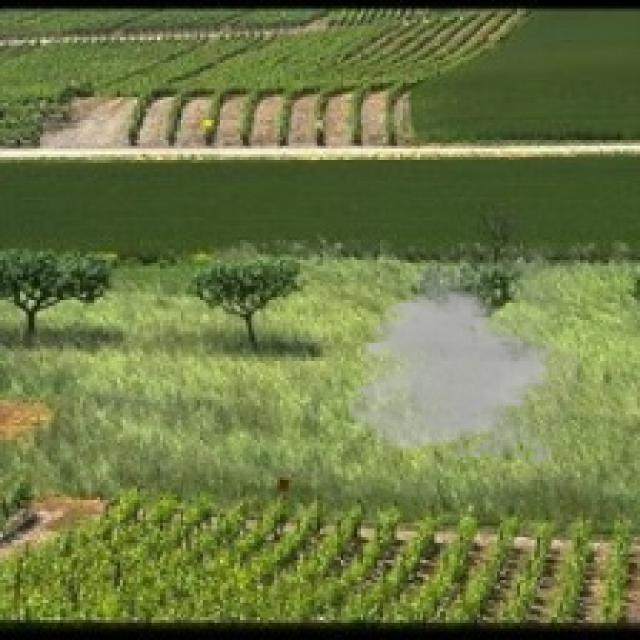Smoke: (343, 260, 580, 474)
